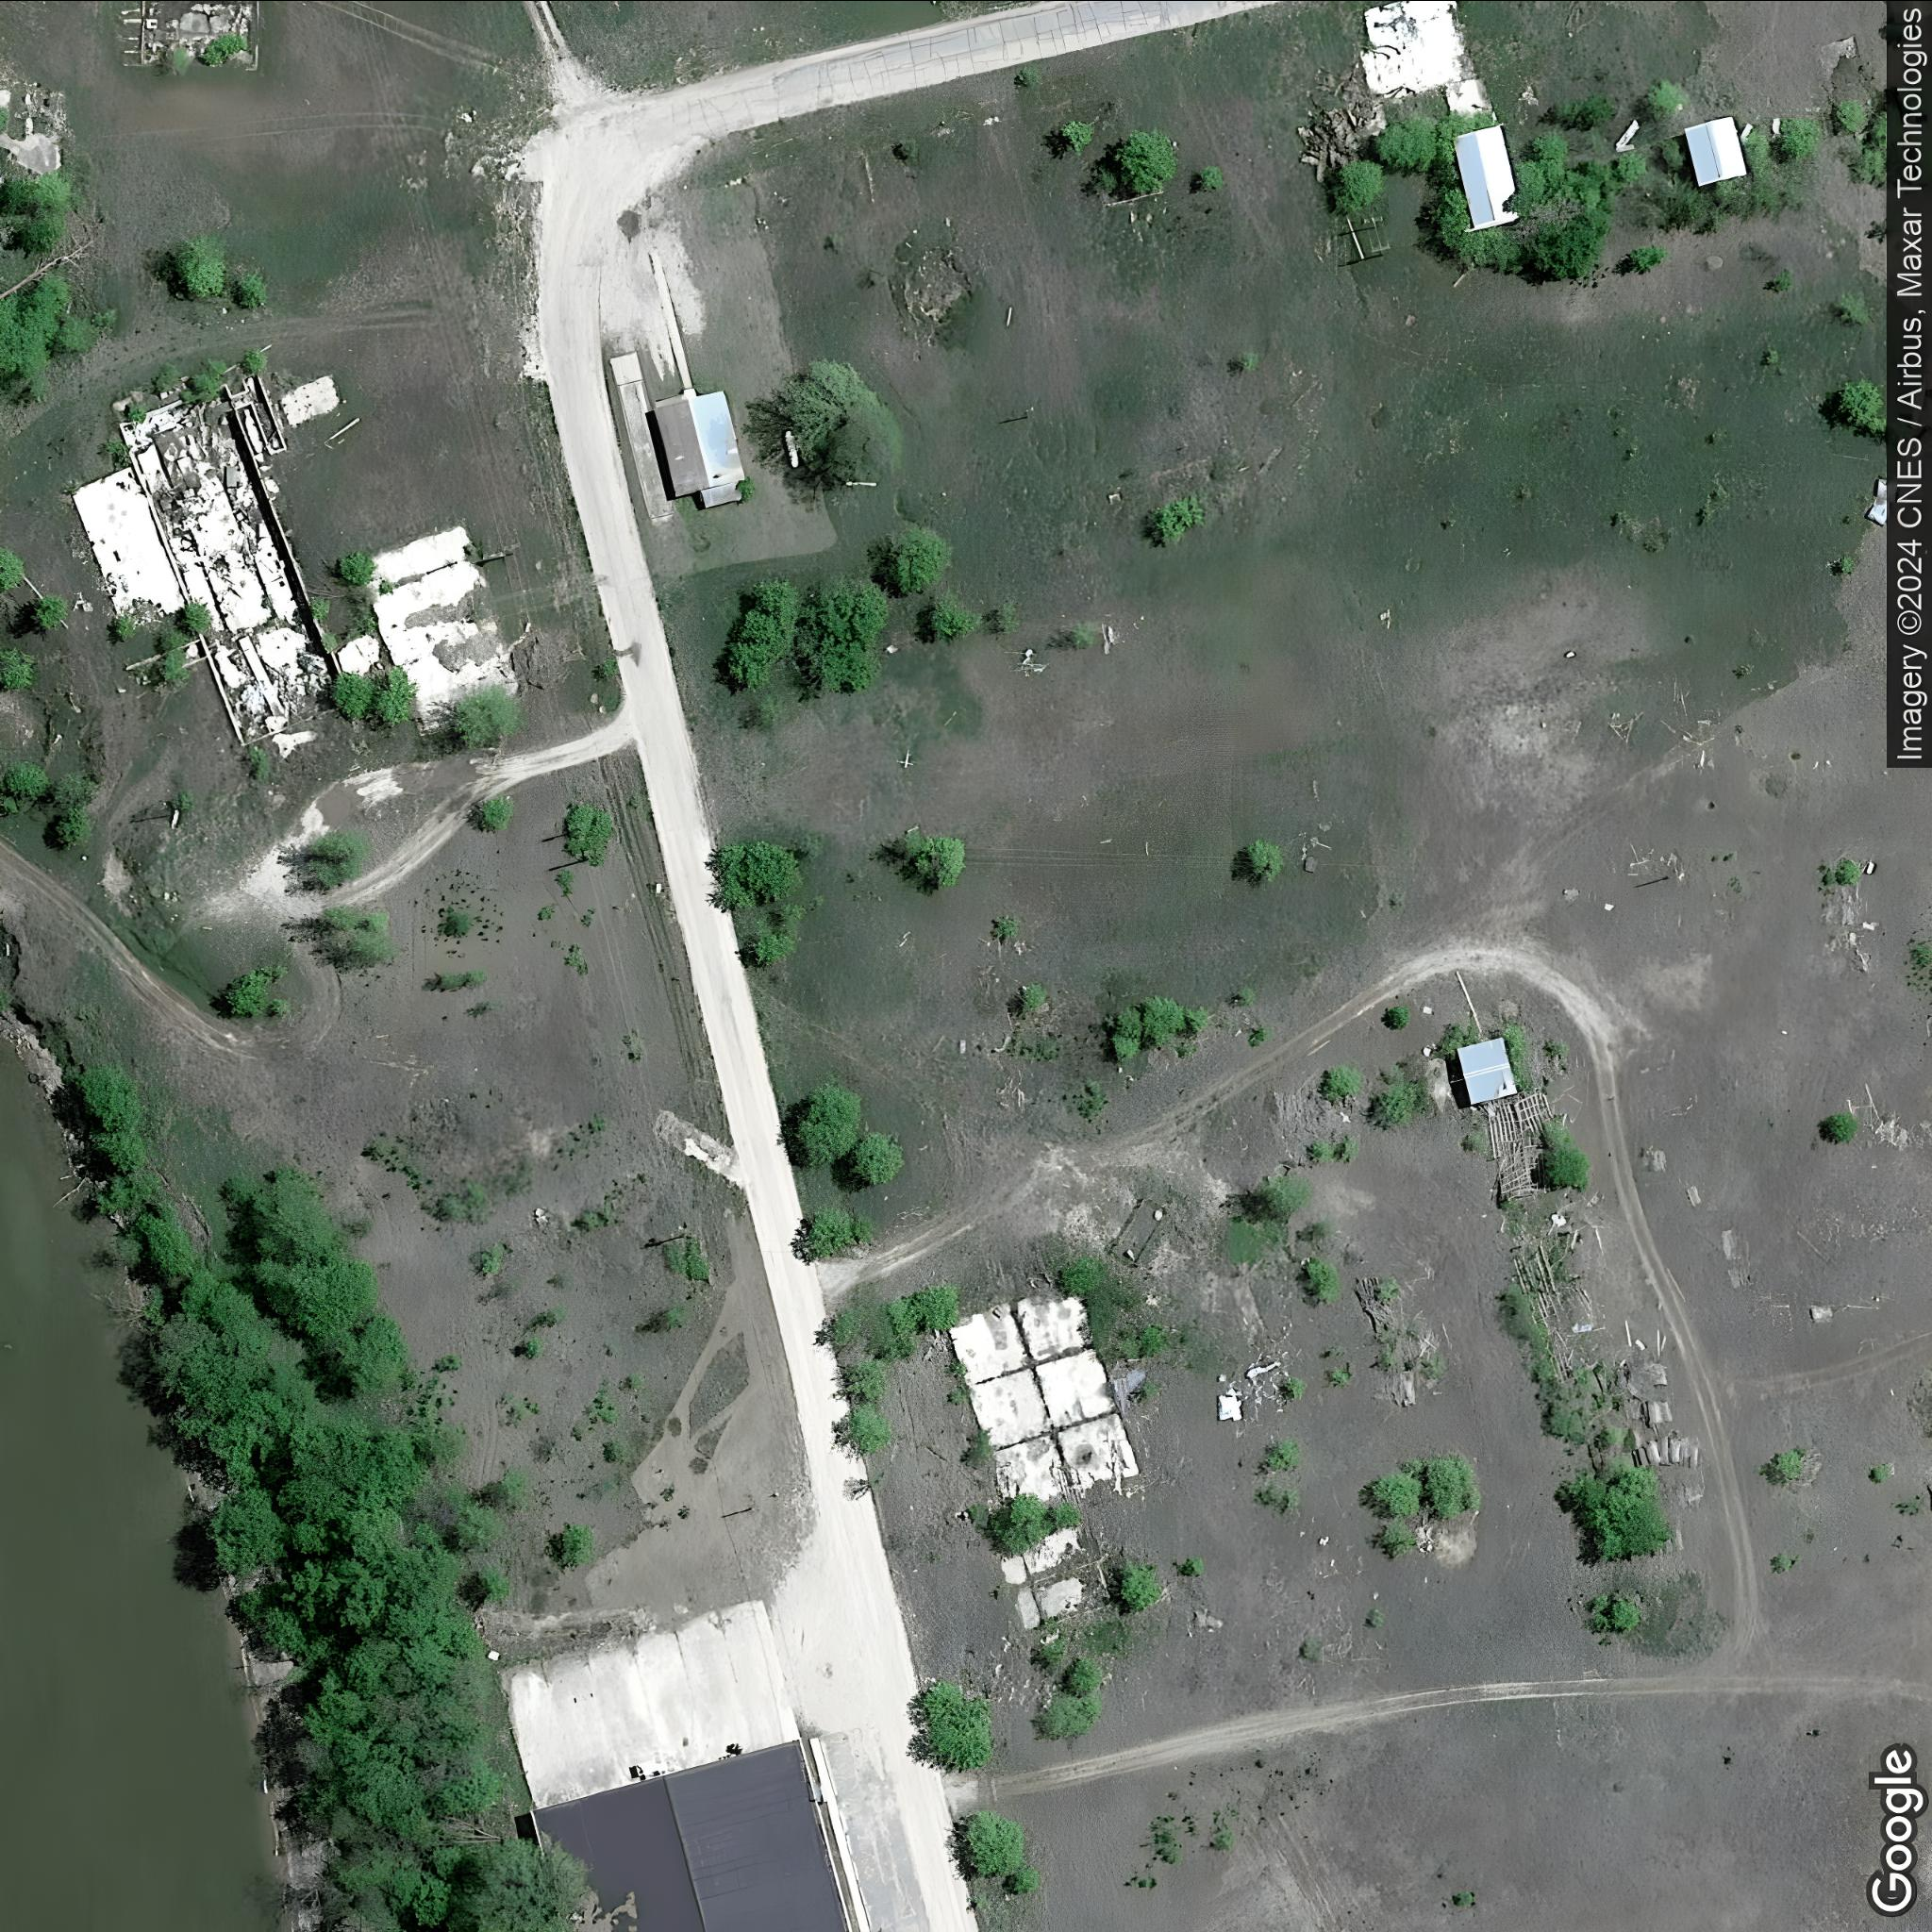Garage: (1451, 119, 1527, 234), (1681, 113, 1752, 189), (1454, 1033, 1522, 1106)
House: (653, 387, 748, 511)
Other: (527, 1734, 853, 1928)
Propane: (780, 428, 801, 469)
